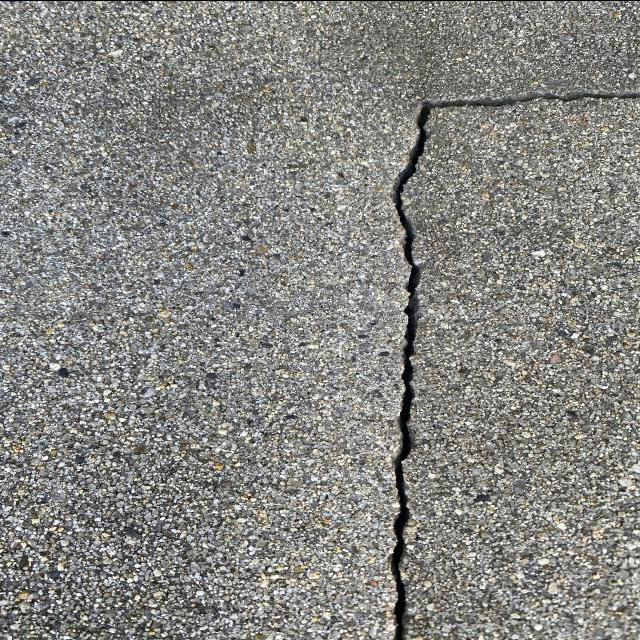SurfaceCrack: (349, 81, 472, 639)
